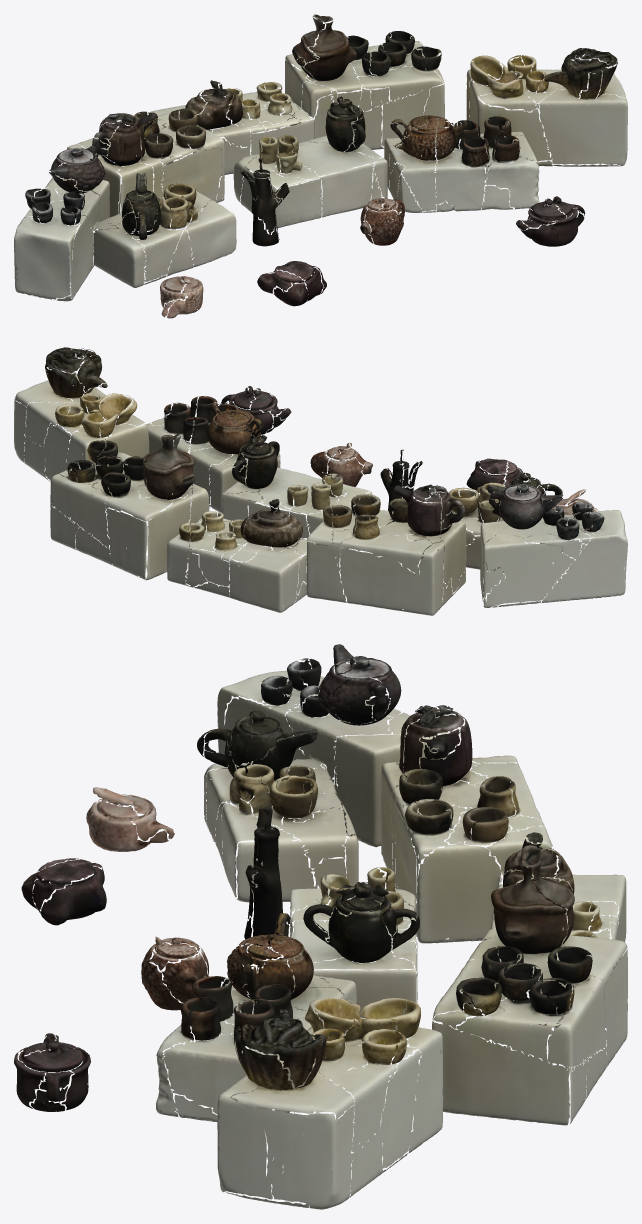
File: teapot.glb
3 renders of one model, top to bottom at view 1: azimuth 30°, elevation 25°; view 2: azimuth 150°, elevation 25°; view 3: azimuth 270°, elevation 25°, orthographic. The views are drawn at different scales.
Visible parts, largest first — view 1: tripo_node_56b4b642-ade9-4c4a-9caf-5d76770be4ef; view 2: tripo_node_56b4b642-ade9-4c4a-9caf-5d76770be4ef; view 3: tripo_node_56b4b642-ade9-4c4a-9caf-5d76770be4ef.
Part boxes in pixels (x1,y1,x2,y2): tripo_node_56b4b642-ade9-4c4a-9caf-5d76770be4ef: [14, 14, 627, 318]; tripo_node_56b4b642-ade9-4c4a-9caf-5d76770be4ef: [14, 347, 627, 615]; tripo_node_56b4b642-ade9-4c4a-9caf-5d76770be4ef: [14, 644, 627, 1209].
Bounding box in the file's own units: 0.9801 × 0.1963 × 0.5584.
1 material, 1 textured.
